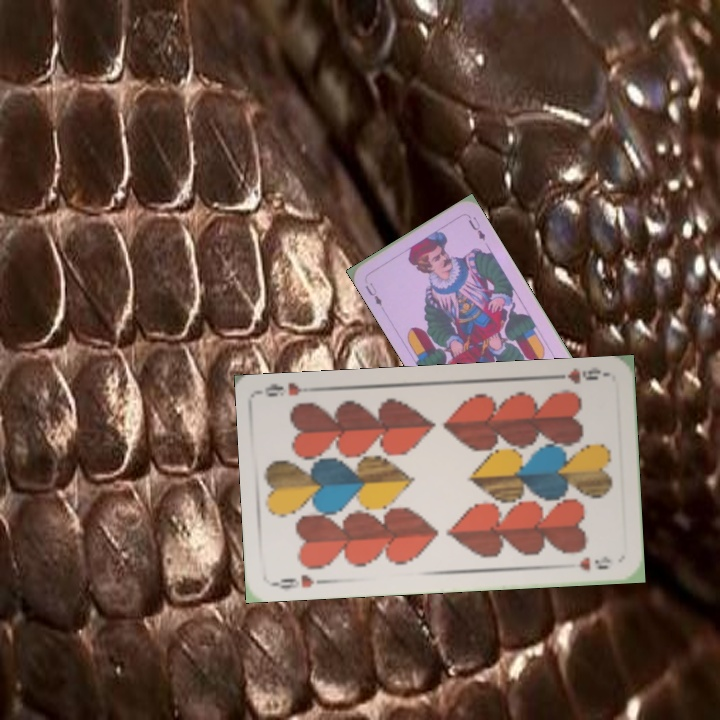EU: (361, 278, 385, 309)
H9: (549, 363, 608, 386), (270, 570, 329, 592)
